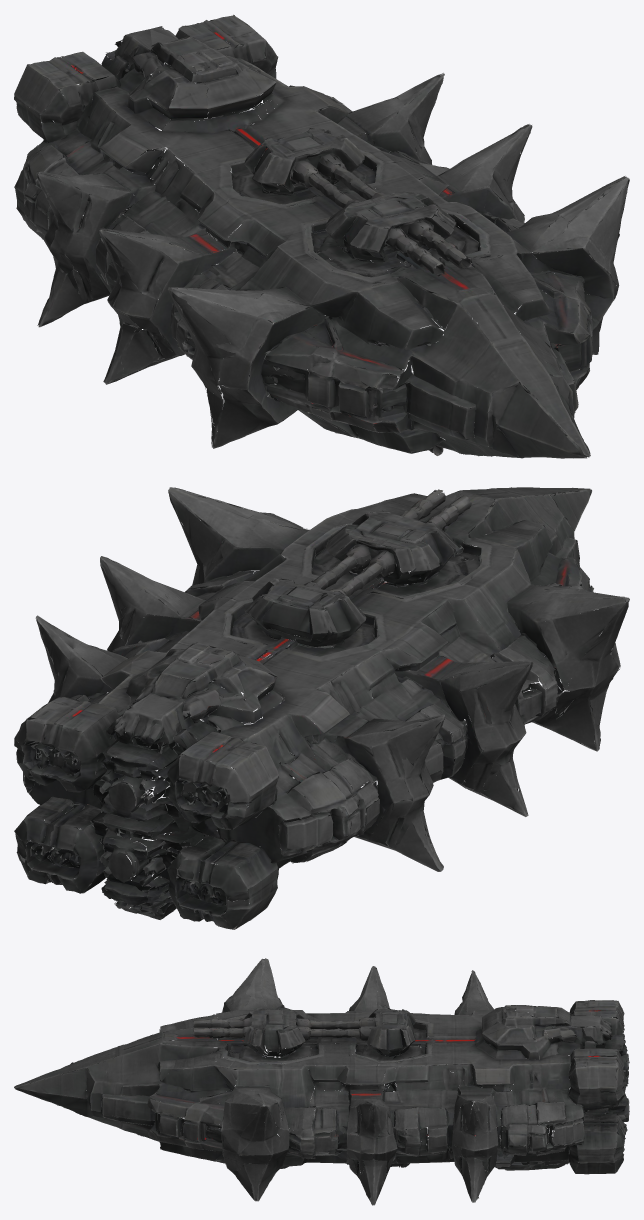
The model's file is pirate-frigate.glb.
3 views of the same model, one above another, from view 1: azimuth 30°, elevation 25°; view 2: azimuth 150°, elevation 25°; view 3: azimuth 270°, elevation 25° (orthographic). The views are drawn at different scales.
Parts seen in each view (by area): view 1: Mesh_0; view 2: Mesh_0; view 3: Mesh_0.
Part boxes in pixels (bbox=[...]): Mesh_0: bbox=[14, 14, 629, 458]; Mesh_0: bbox=[14, 487, 629, 929]; Mesh_0: bbox=[14, 958, 629, 1205].
Bounding box in the file's own units: 0.567 × 0.2772 × 1.
Materials: 1 (1 with a texture image).
